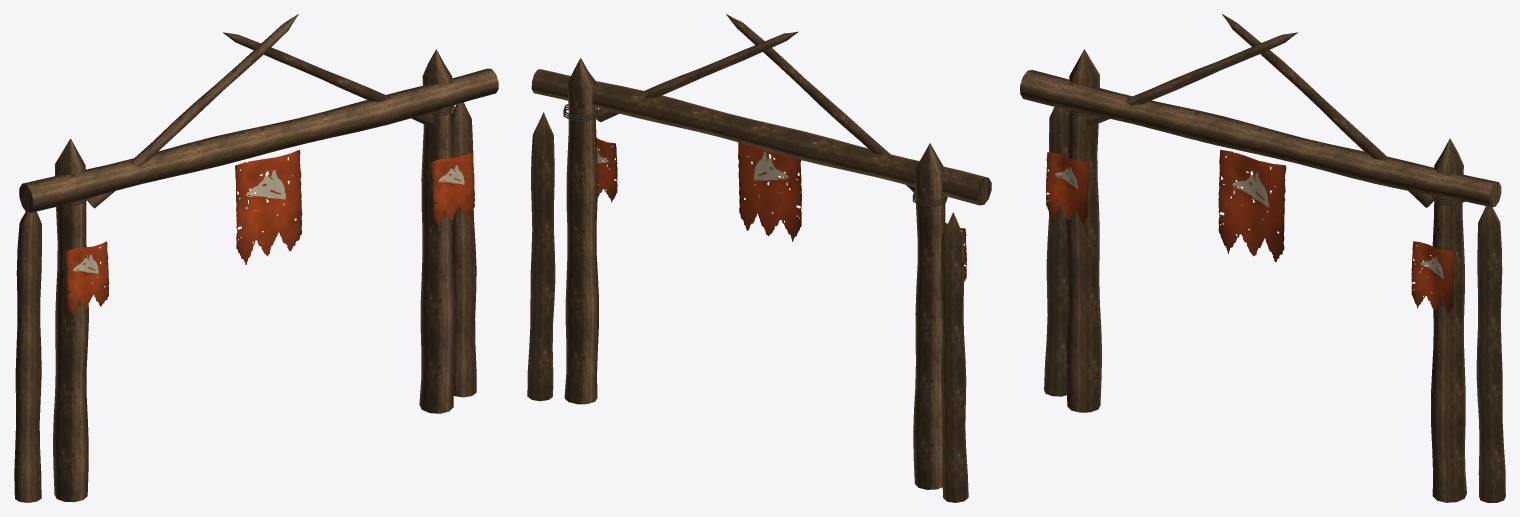
File: SM_Bld_Red_Gate.gltf
The picture shows the model from 3 angles, left to right: view 1: azimuth 30°, elevation 25°; view 2: azimuth 150°, elevation 25°; view 3: azimuth 330°, elevation 25°; orthographic projection. The views are drawn at different scales.
Visible parts, largest first — view 1: SM_Bld_Red_Gate; view 2: SM_Bld_Red_Gate; view 3: SM_Bld_Red_Gate.
Boxes of the visible parts, <box> form: SM_Bld_Red_Gate: <box>14,14,498,502</box>; SM_Bld_Red_Gate: <box>527,14,991,502</box>; SM_Bld_Red_Gate: <box>1020,14,1505,502</box>.
Bounding box in the file's own units: 7.42 × 6.57 × 0.9111.
3 materials, 3 textured.
